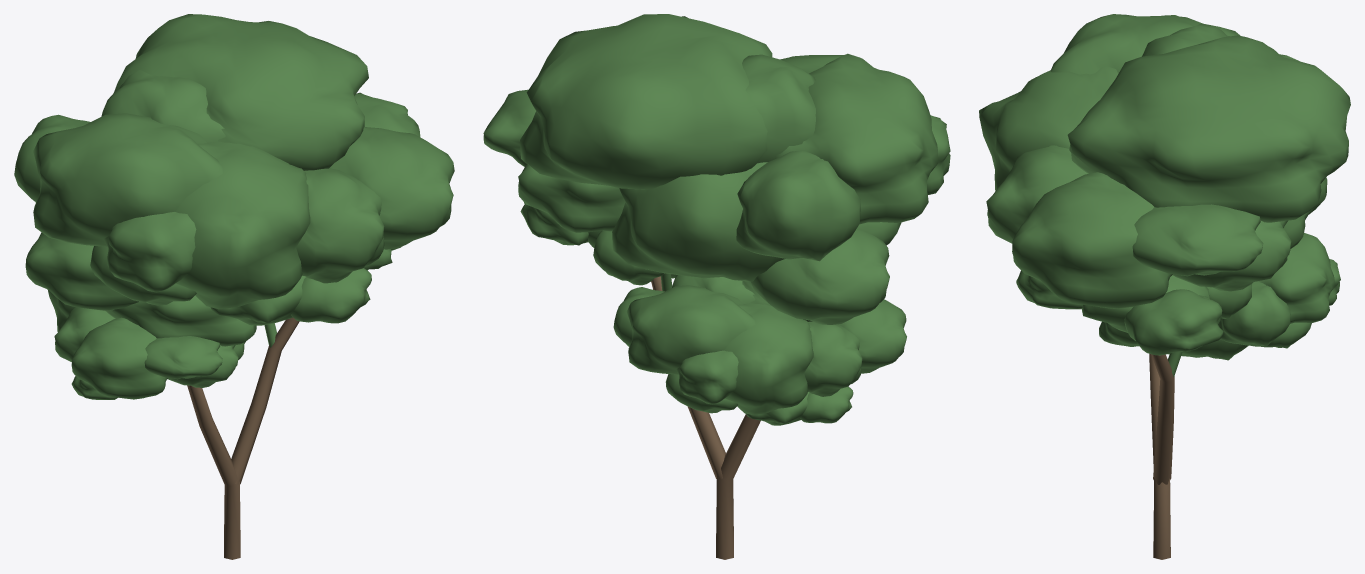
Rendered from C_tree_1.fbx.
The picture shows the model from 3 angles, left to right: view 1: azimuth 30°, elevation 25°; view 2: azimuth 150°, elevation 25°; view 3: azimuth 270°, elevation 25°; orthographic projection. The views are drawn at different scales.
Visible parts, largest first — view 1: tree.003; view 2: tree.003; view 3: tree.003.
Part boxes in pixels (box(x1,y1,x2,y2)): tree.003: box(14, 14, 454, 559); tree.003: box(483, 14, 950, 559); tree.003: box(979, 14, 1350, 559).
Bounding box in the file's own units: 1664 × 2513 × 2056.
